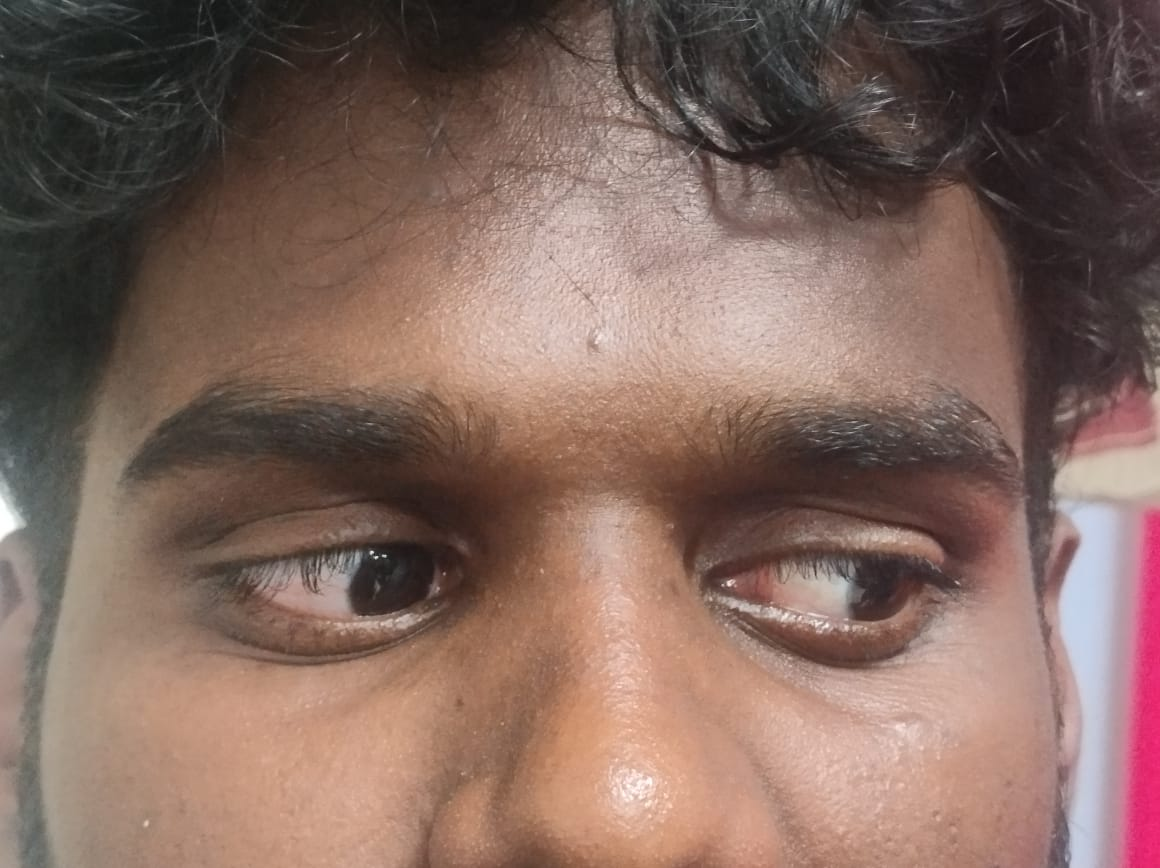EYE LEFT: (76, 392, 570, 725), (641, 398, 1042, 735)
